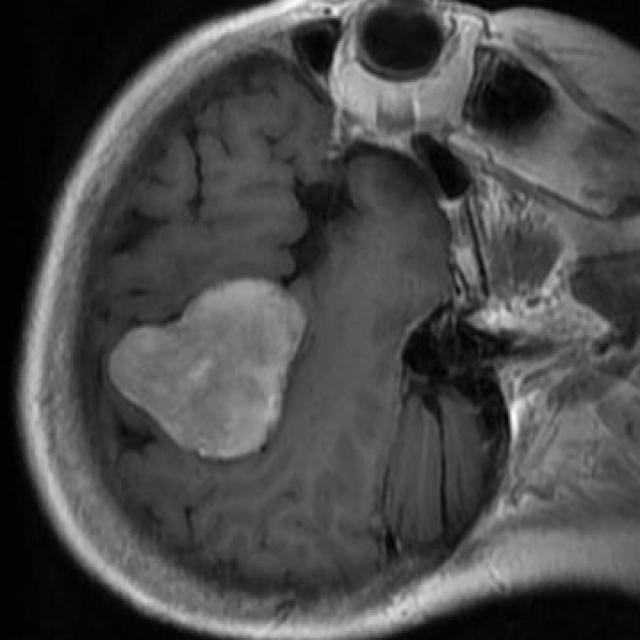meningioma: (107, 278, 307, 460)
